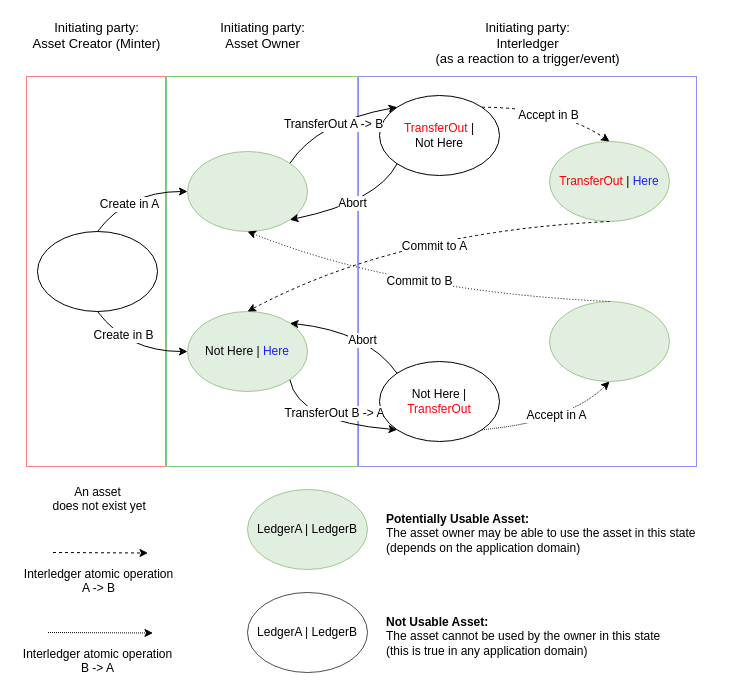
Image size: 732x693. Some labels were removed from this diagram. The shapes that lost their labels are listed below. From the top down, each one's centre as x and y in pixels, then its label:
the point at 247,191: Here | Not Here
the point at 97,271: Not Here | Not Here
the point at 609,341: Here | TransferOut
